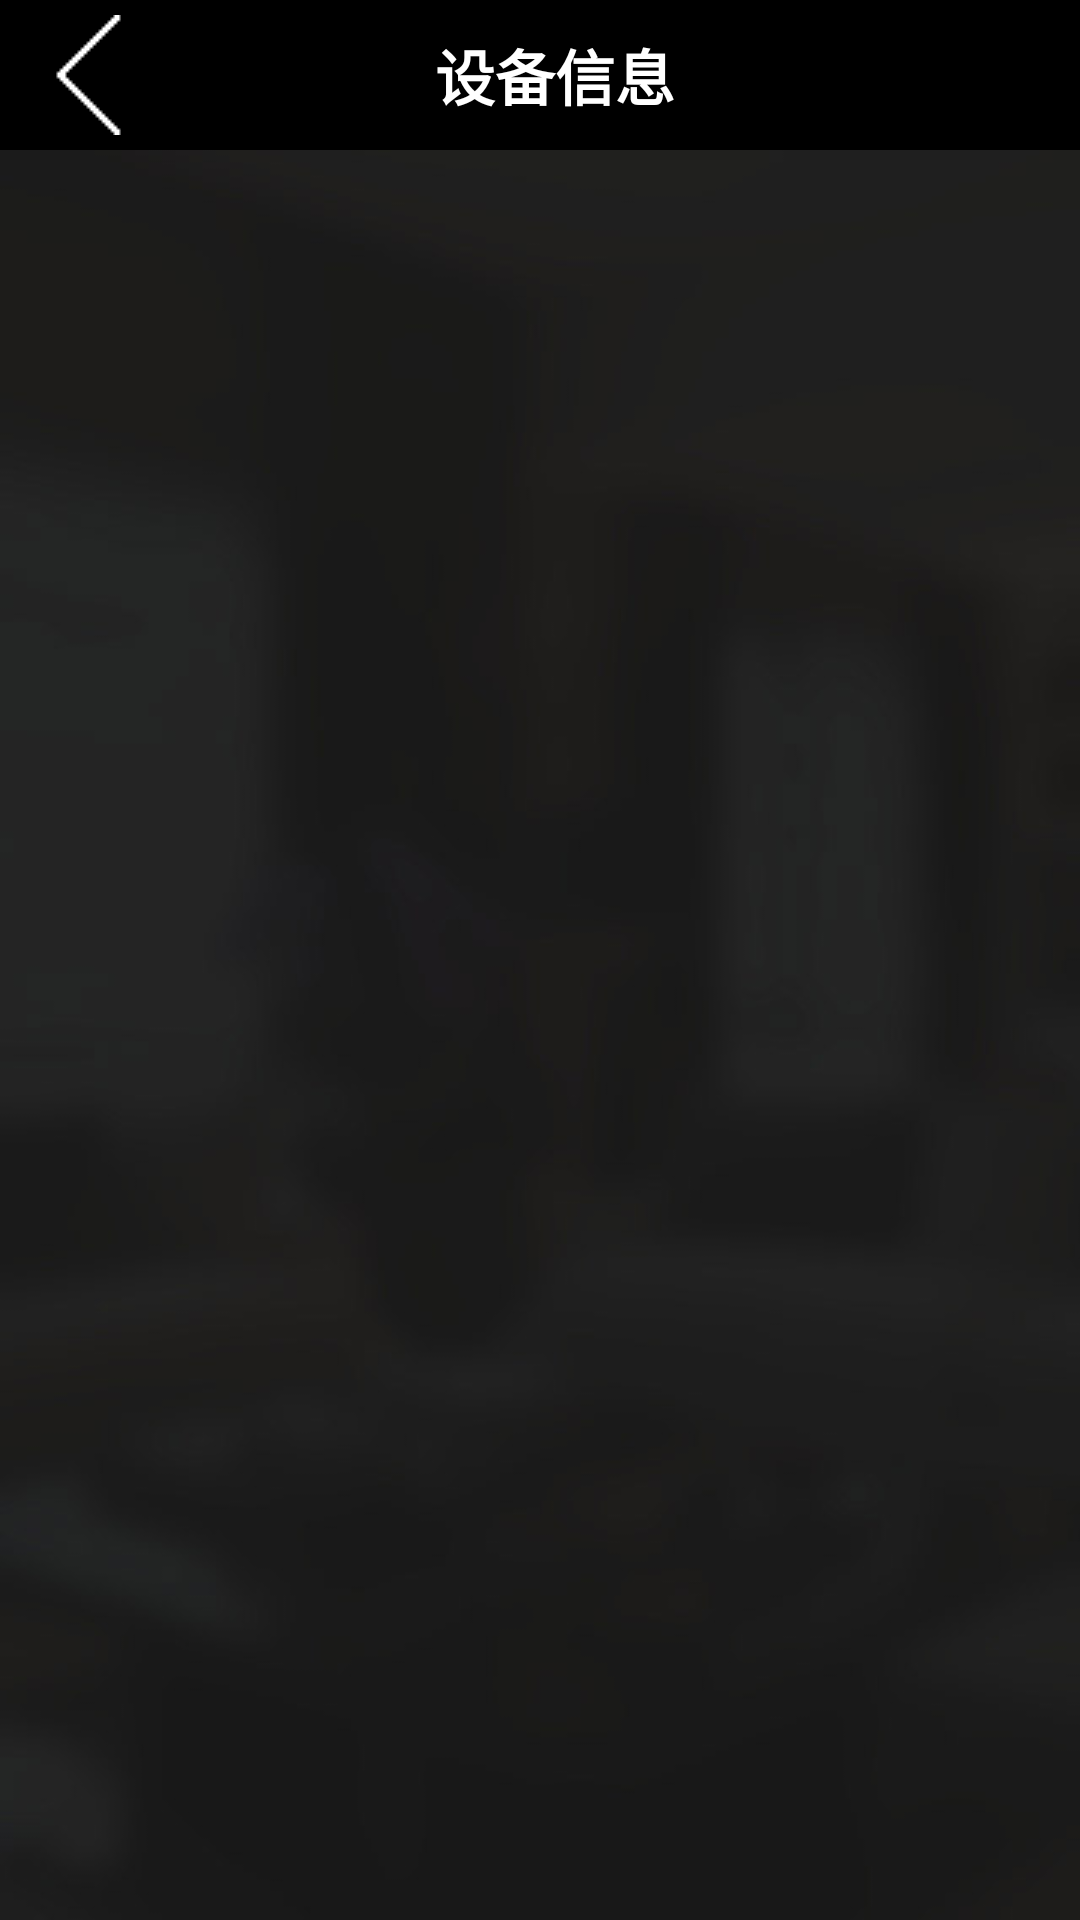

Named icons in this screenshot (1080 x 1920) and their centers, (x,y):
left: (88,75)
